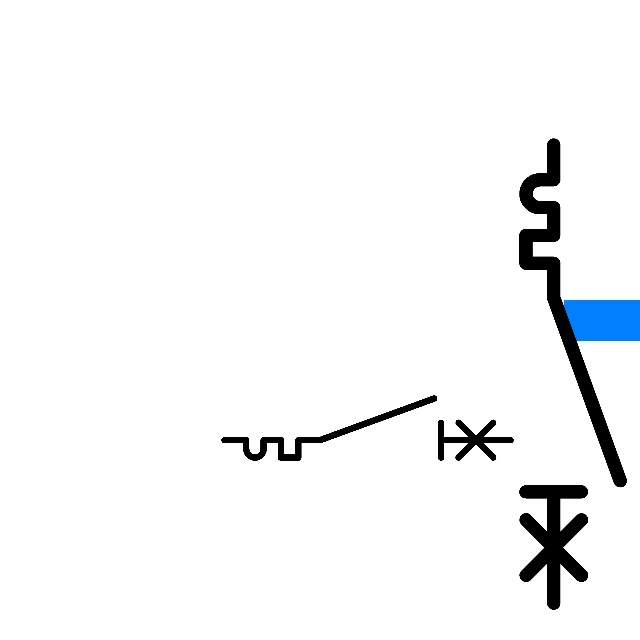interruptor_termomagnetico: (514, 133, 632, 615), (217, 391, 518, 465)
